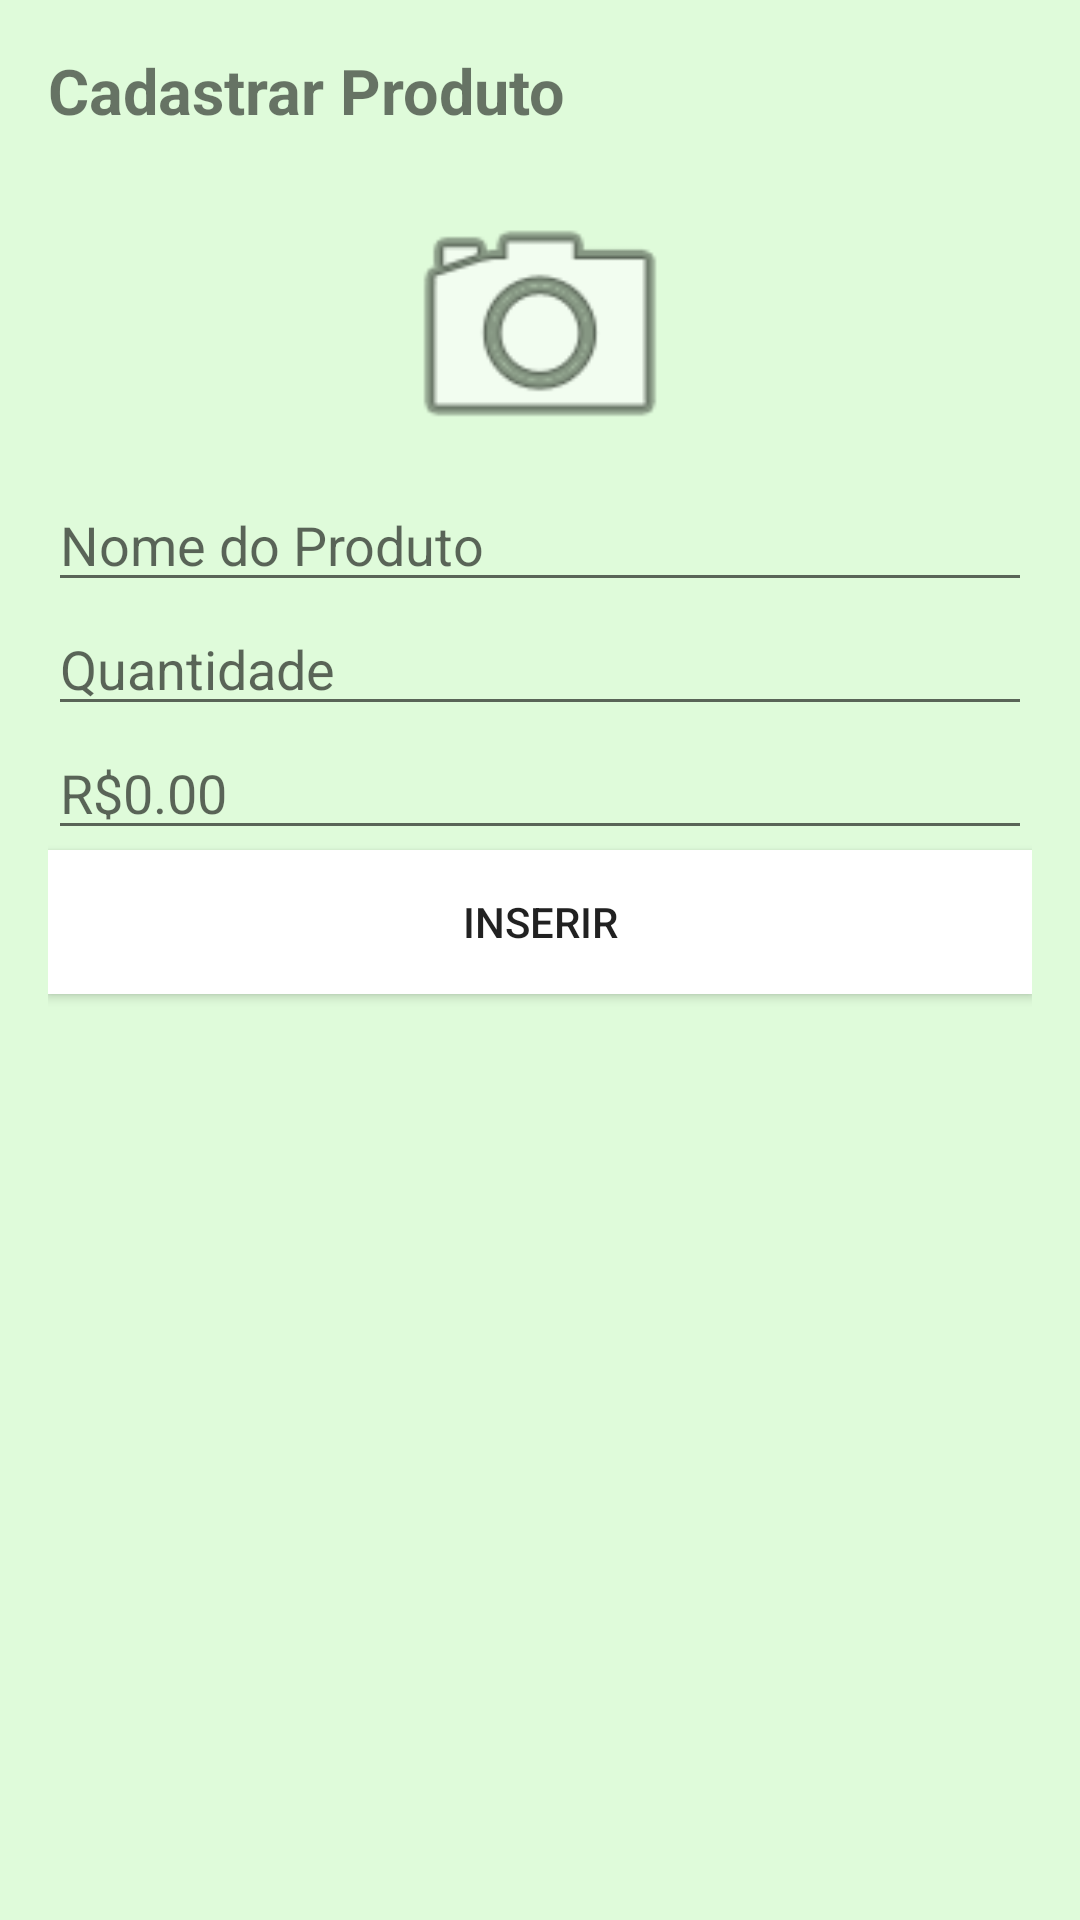

Screen size 1080w x 1920h. Icon name, then its center in pixels as (x=x, y=y):
camera: (x=540, y=323)
